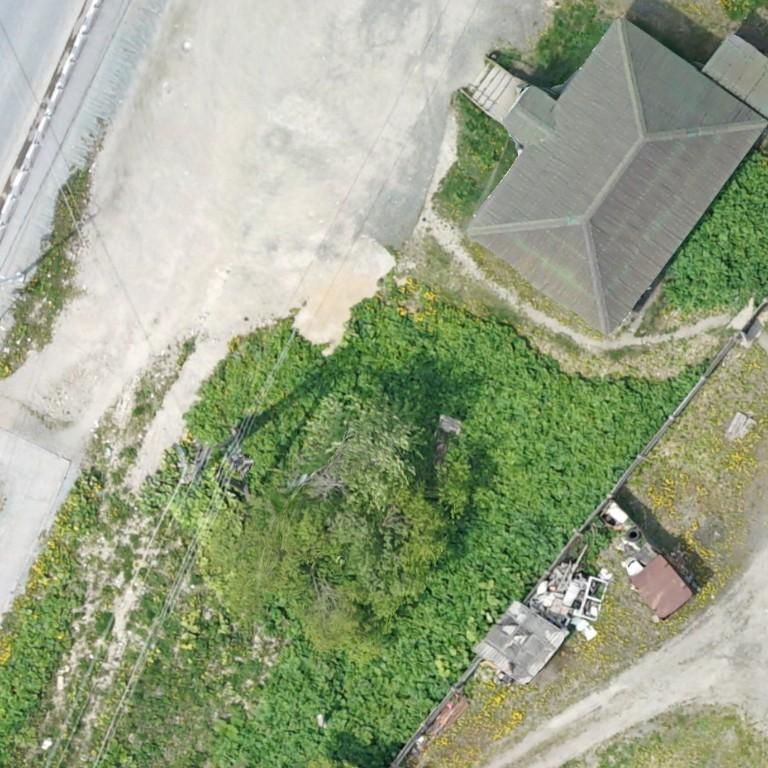hogweed: (212, 294, 709, 767), (662, 149, 767, 308), (186, 322, 292, 442), (0, 593, 71, 767), (584, 527, 608, 558)
